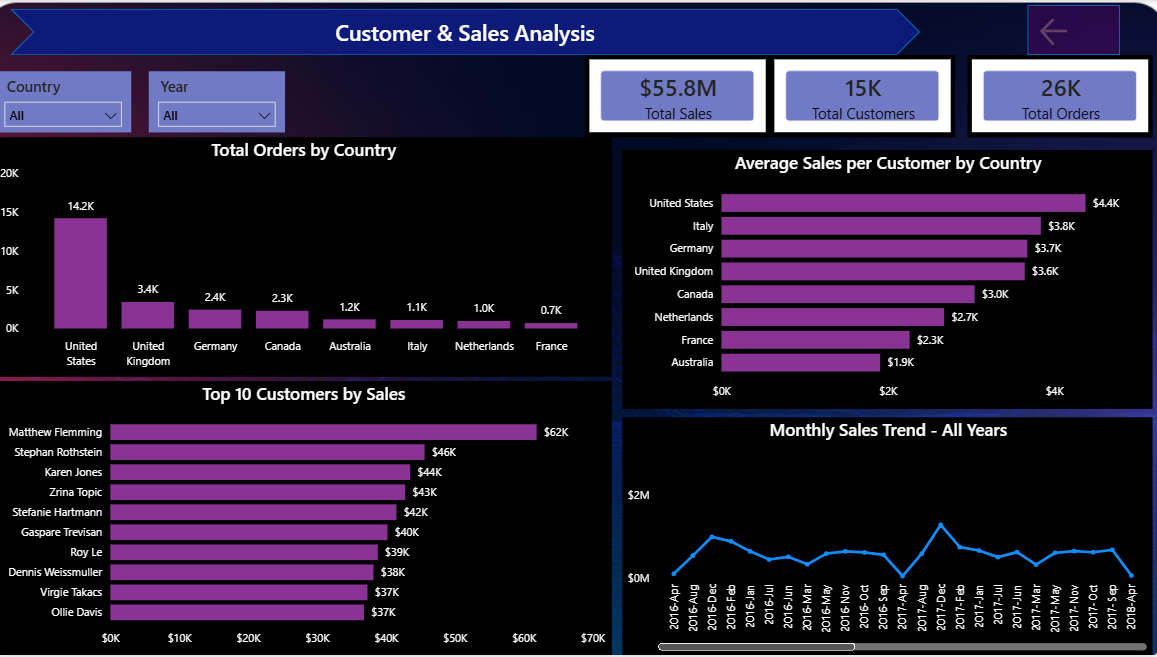

This screenshot's page, from the dashboard's own definition file:
{"tool":"powerbi","page":{"name":"Customer Analysis","canvas":[1280,720],"ordinal":3},"visuals":[{"type":"cardVisual","fields":{"Data":["Customers.Total Customers"]},"box":[850.8,60.4,203.1,90.6],"z":0},{"type":"cardVisual","fields":{"Data":["Sales.Average Order Value"]},"box":[926.2,178.4,207.2,90.6],"z":1000},{"type":"cardVisual","fields":{"Data":["Sales.Total Sales"]},"box":[647.7,60.4,203.1,90.6],"z":2000},{"type":"cardVisual","fields":{"Data":["Sales.Total Orders"]},"box":[1067.6,60.4,203.1,90.6],"z":3000},{"type":"clusteredBarChart","title":"Top 10 Customers by Sales","fields":{"Category":["Customers.Name"],"Y":["Sales.Total Sales"]},"box":[0,418.5,676.5,301.9],"z":4000},{"type":"clusteredColumnChart","fields":{"Y":["Sales.Total Orders"],"Category":["Customers.Country"]},"box":[0,150.9,676.5,262.1],"z":5000},{"type":"clusteredBarChart","fields":{"Y":["Customers.Average Sales per Customer"],"Category":["Customers.Country"]},"box":[688.9,164.7,581.8,284],"z":6000},{"type":"lineChart","fields":{"Y":["Sales.Total Sales"],"Category":["DateTable.Year Month"]},"box":[688.9,458.3,581.8,262.1],"z":7000},{"type":"slicer","fields":{"Values":["DateTable.Year"]},"box":[168.8,78.2,149.6,67.2],"z":8000},{"type":"slicer","fields":{"Values":["Customers.Country"]},"box":[0,78.2,149.6,67.2],"z":9000},{"type":"shape","box":[16.5,9.6,999,50.8],"z":11000},{"type":"actionButton","box":[1143.1,15.1,82.3,39.8],"z":11001},{"type":"shape","box":[1133.5,5.5,101.5,54.9],"z":11002}]}

Visuals, with their boxes in screenshot pixels (x1, y1, x2, y2), scaled from the page's 1280x720 canvas onto the 1157x657 screenshot:
cardVisual - Customers.Total Customers: 769, 55, 953, 138
cardVisual - Sales.Average Order Value: 837, 163, 1024, 245
cardVisual - Sales.Total Sales: 585, 55, 769, 138
cardVisual - Sales.Total Orders: 965, 55, 1149, 138
"Top 10 Customers by Sales" clusteredBarChart: 0, 382, 611, 656
clusteredColumnChart - Sales.Total Orders x Customers.Country: 0, 138, 611, 377
clusteredBarChart - Customers.Average Sales per Customer x Customers.Country: 623, 150, 1149, 409
lineChart - Sales.Total Sales x DateTable.Year Month: 623, 418, 1149, 656
slicer - DateTable.Year: 153, 71, 288, 133
slicer - Customers.Country: 0, 71, 135, 133
shape: 15, 9, 918, 55
actionButton: 1033, 14, 1108, 50
shape: 1025, 5, 1116, 55
